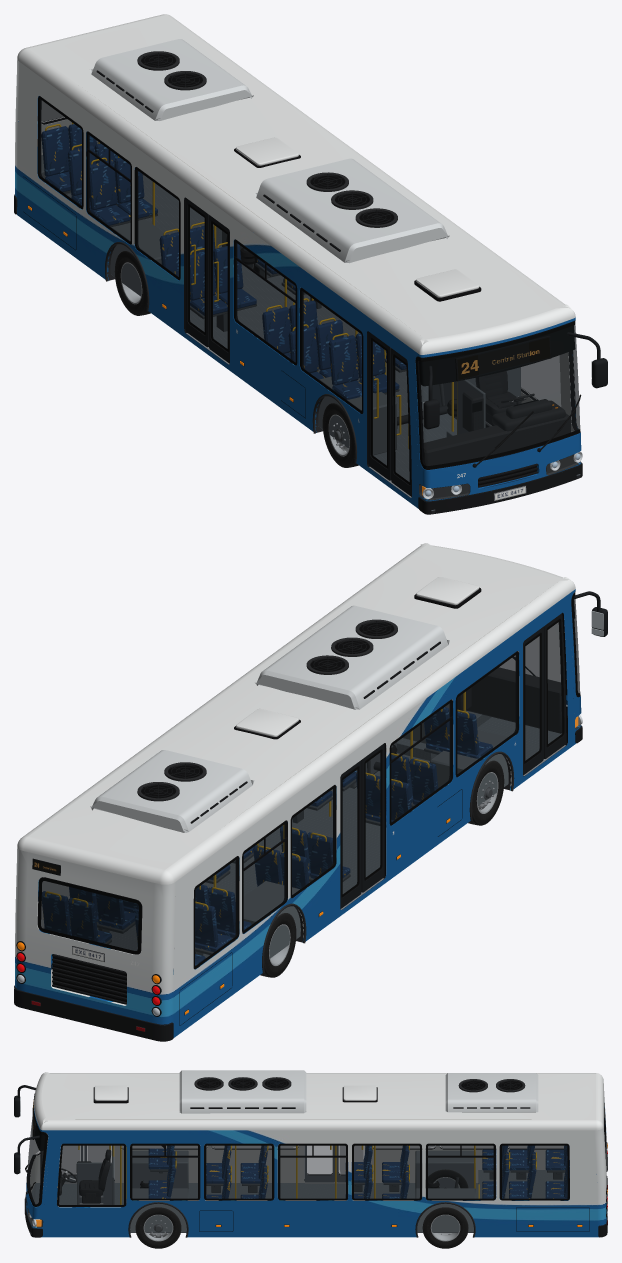
The model's file is city-bus.glb.
3 renders of one model, top to bottom at view 1: azimuth 30°, elevation 25°; view 2: azimuth 150°, elevation 25°; view 3: azimuth 270°, elevation 25°, orthographic. The views are drawn at different scales.
Visible parts, largest first — view 1: City_Bus, Door_2b, Door_1b, Door_2a, Door_1a, Wheel_Front_R, Wheel_Rear_R; view 2: City_Bus, Door_2a, Door_2b, Door_1a, Door_1b, Wheel_Front_R, Wheel_Rear_R; view 3: City_Bus, Wheel_Front_L, Wheel_Rear_L, Door_1a, Door_2b, Door_2a, Wheel_Rear_R, Door_1b.
Part boxes in pixels (box(x1,y1,x2,y2)): City_Bus: box(14, 14, 607, 514); Door_2b: box(185, 198, 208, 347); Door_1b: box(368, 332, 391, 480); Door_2a: box(208, 215, 229, 363); Door_1a: box(391, 348, 411, 496); Wheel_Front_R: box(322, 403, 358, 467); Wheel_Rear_R: box(114, 251, 150, 315); City_Bus: box(14, 543, 607, 1041); Door_2a: box(361, 743, 384, 892); Door_2b: box(340, 760, 361, 908); Door_1a: box(543, 613, 566, 758); Door_1b: box(523, 627, 543, 775); Wheel_Front_R: box(468, 760, 504, 825); Wheel_Rear_R: box(260, 913, 296, 977); City_Bus: box(14, 1070, 607, 1237); Wheel_Front_L: box(135, 1207, 181, 1248); Wheel_Rear_L: box(422, 1207, 468, 1248); Door_1a: box(61, 1145, 83, 1182); Door_2b: box(336, 1145, 365, 1182); Door_2a: box(304, 1145, 334, 1182); Wheel_Rear_R: box(425, 1169, 468, 1188); Door_1b: box(84, 1145, 114, 1162).
Bounding box in the file's own units: 2.98 × 3.19 × 12.17.
Materials: 64 (14 with a texture image).
